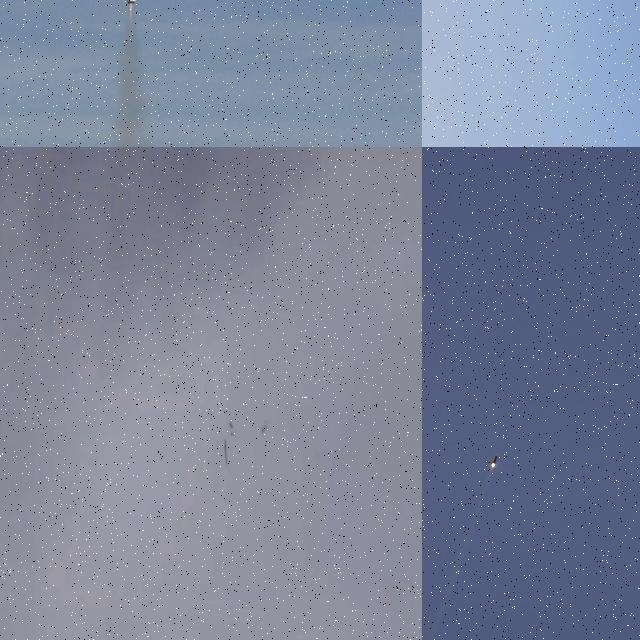Rocket: (224, 439, 228, 465), (490, 453, 498, 465)
